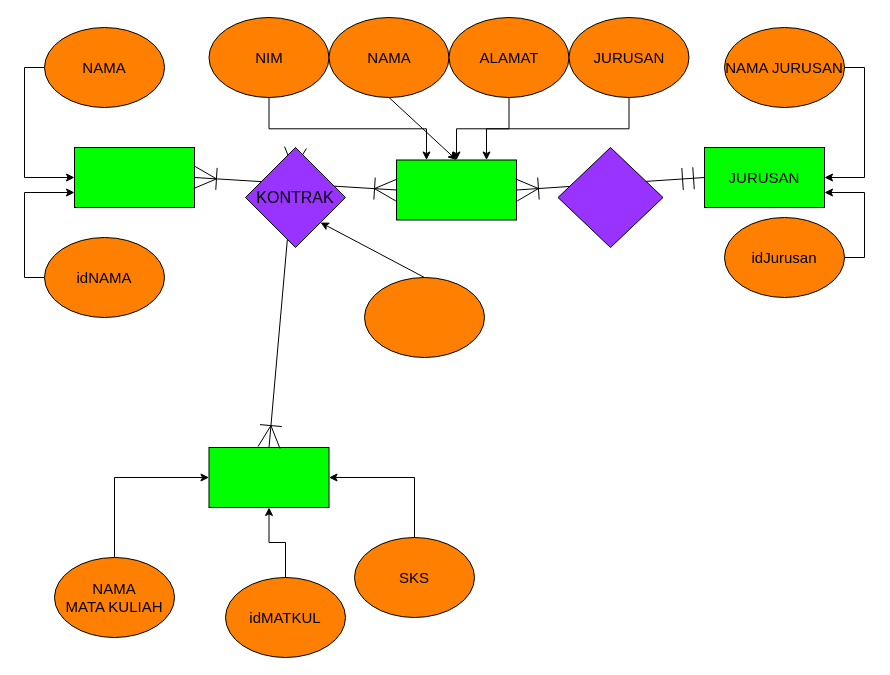
The diagram is 890 pixels wide and 675 high, and some of its shapes have lost their labels. Here are the shapes that lost their labels. From the top down, the box of each, then its label:
(74, 146, 194, 208): DOSEN
(396, 159, 516, 220): MAHASISWA
(557, 146, 663, 248): TERDAFTAR
(364, 276, 484, 358): NILAI
(208, 446, 329, 508): MATA KULIAH
